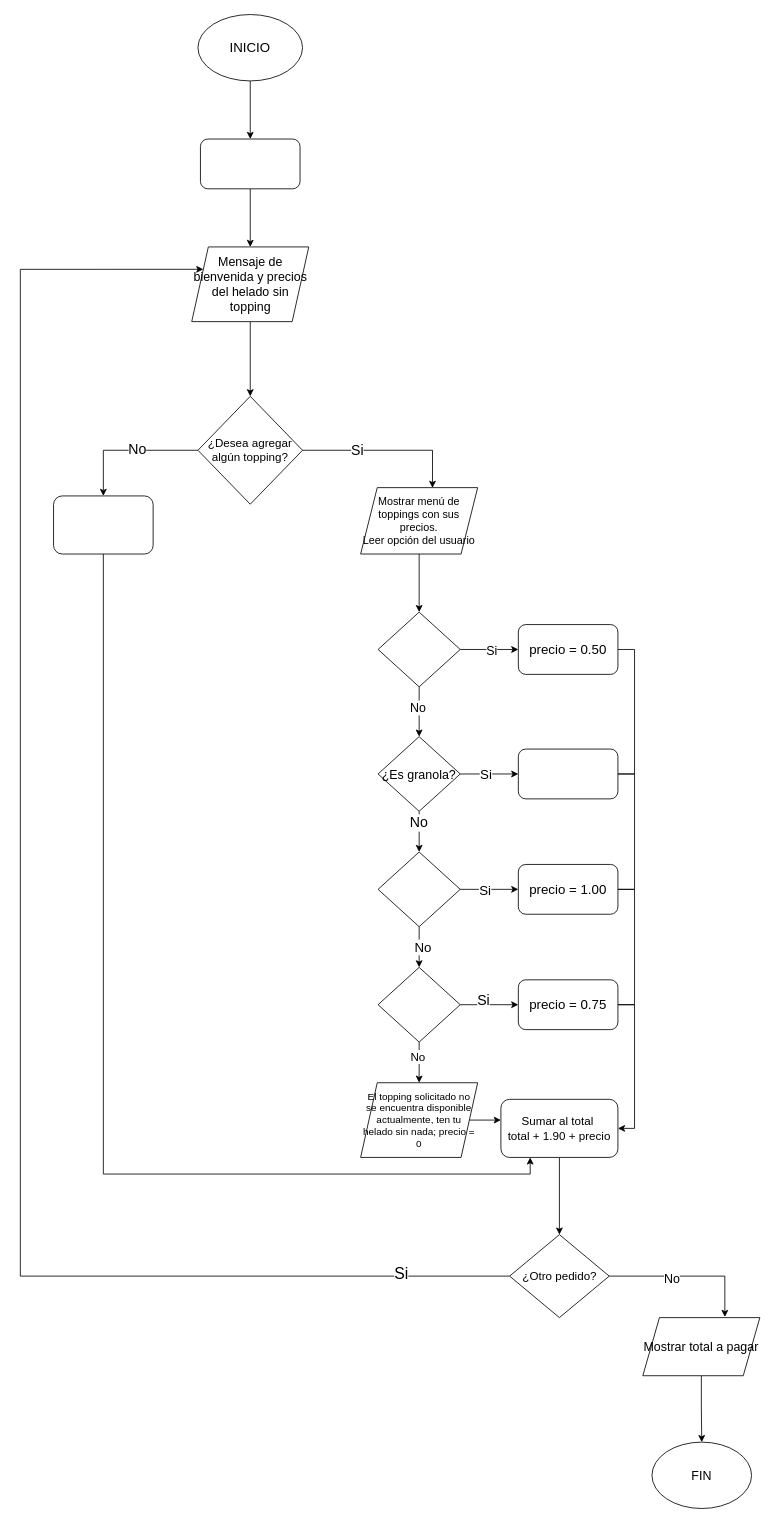
The diagram is 774 pixels wide and 1523 high, and some of its shapes have lost their labels. Here are the shapes that lost their labels. From the top down, the centre of each, then its label:
the point at 250,163: total = 0
the point at 103,524: precio = 0
the point at 418,649: ¿Es frutas?
the point at 568,773: precio = 1.50
the point at 418,889: ¿Es Oreo?
the point at 418,1004: ¿Es brownie?
